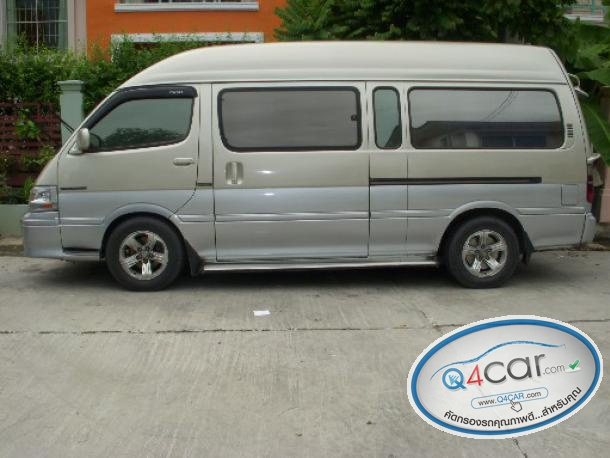van: (18, 36, 603, 291)
